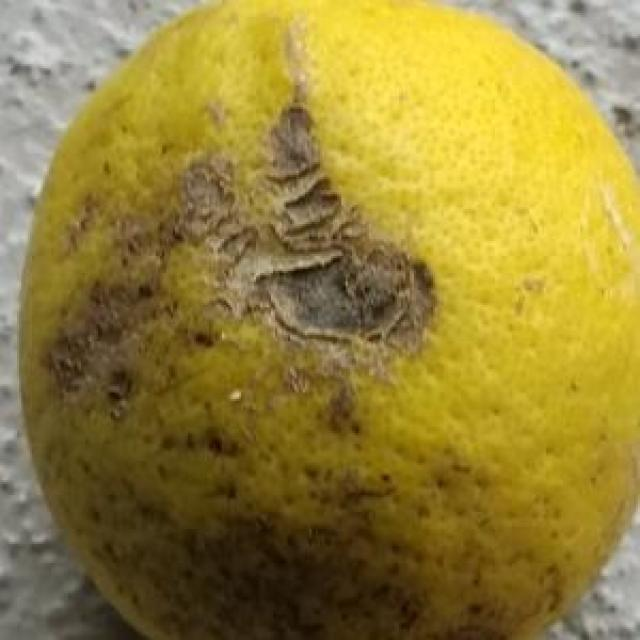lemon: (15, 3, 636, 640)
